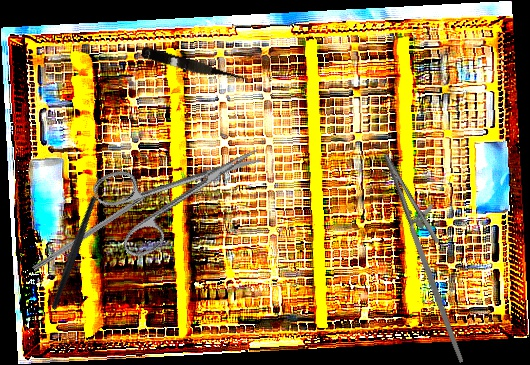Chopper: (10, 170, 141, 311)
Hook Surgical: (31, 181, 167, 273)
Iris Scissors: (90, 117, 278, 264)
Micro Scissor: (140, 46, 250, 88)
Needle Holder: (358, 144, 504, 365)
